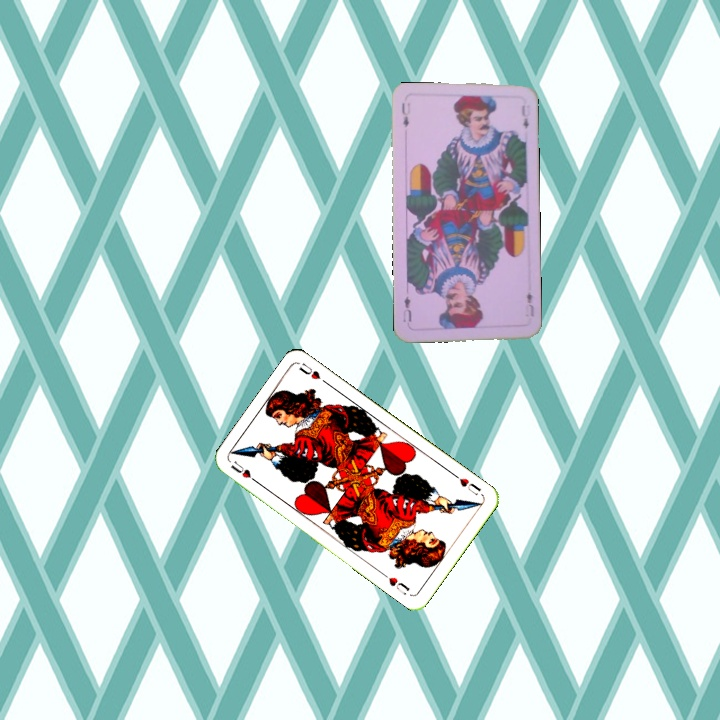EU: (398, 99, 413, 130), (523, 288, 536, 319)
HU: (227, 457, 262, 486), (450, 470, 484, 498)
